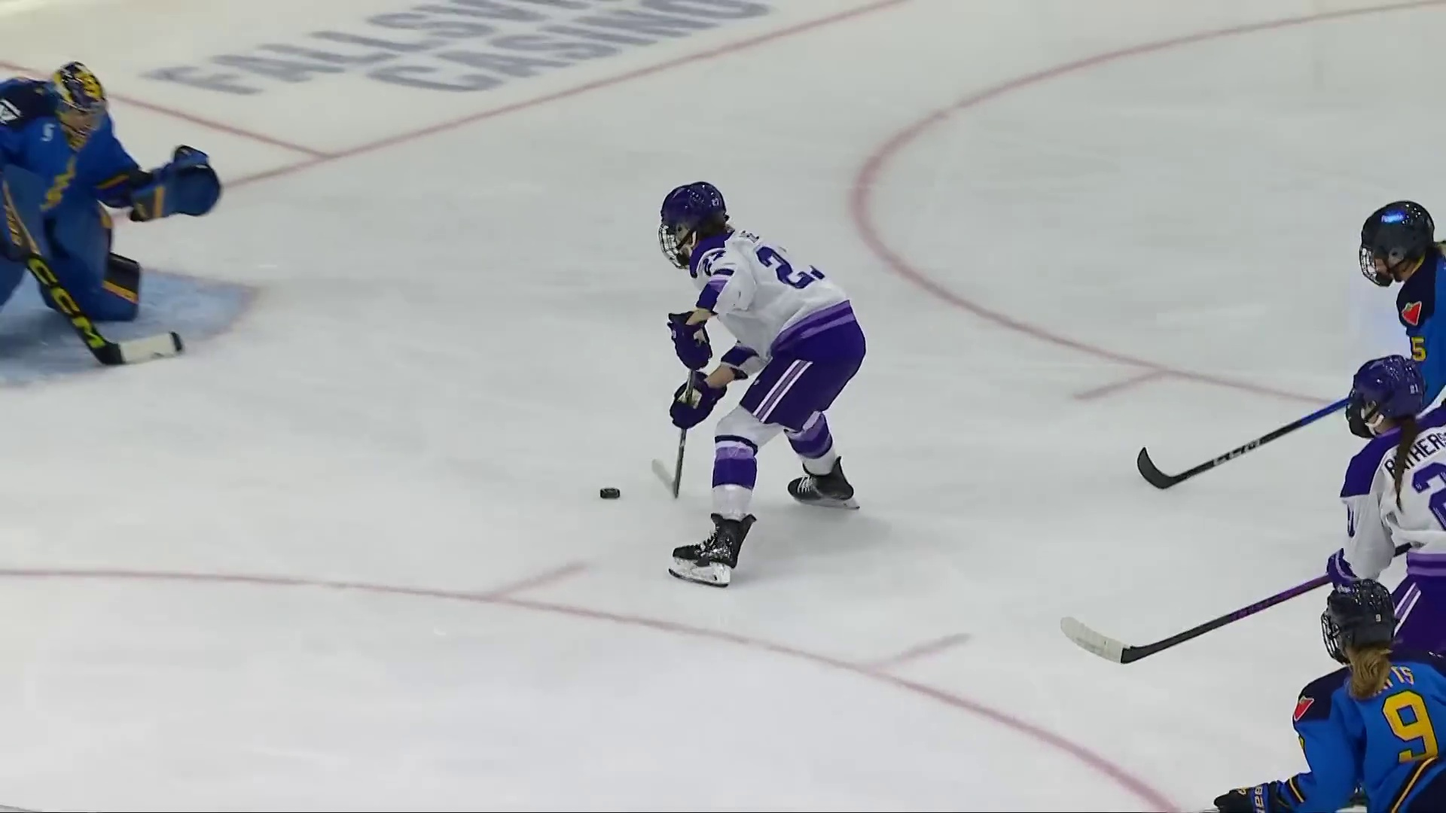goalkeeper: (8, 60, 231, 322)
player: (657, 178, 864, 586)
puck: (599, 486, 623, 502)
